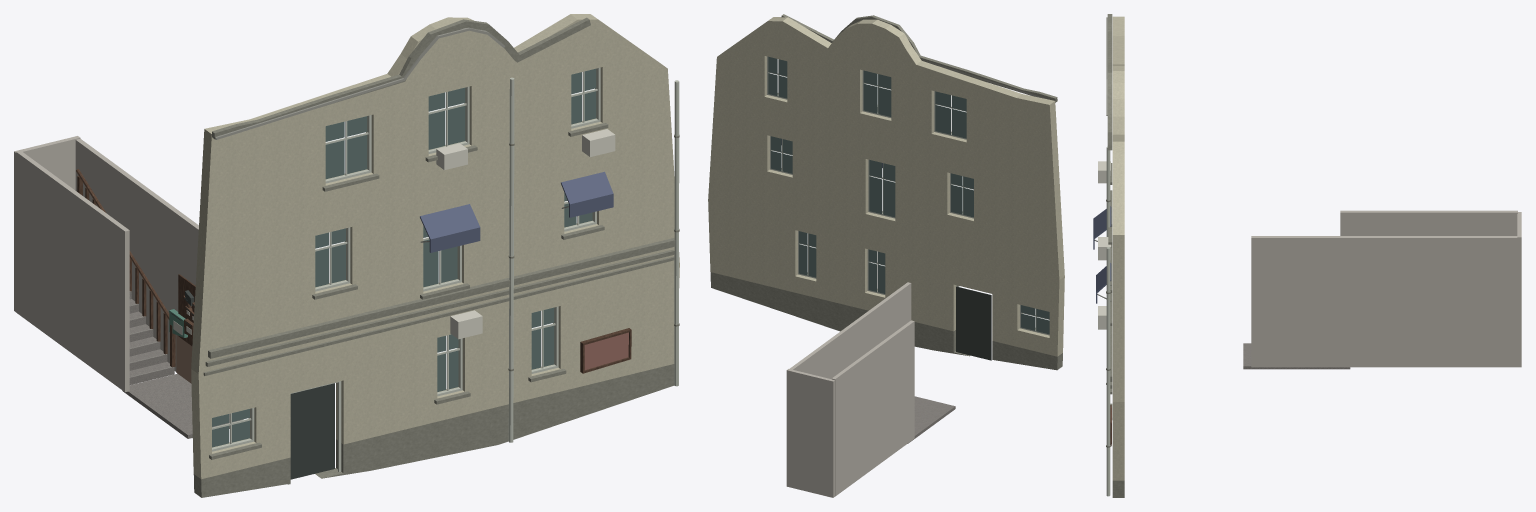
File: lod-source.glb
3 renders of one model, left to right at view 1: azimuth 30°, elevation 25°; view 2: azimuth 150°, elevation 25°; view 3: azimuth 270°, elevation 25°, orthographic. The views are drawn at different scales.
Parts seen in each view (by area): view 1: 愚园路1112弄20号北栋巷面与室内石阶; view 2: 愚园路1112弄20号北栋巷面与室内石阶; view 3: 愚园路1112弄20号北栋巷面与室内石阶.
Boxes of the visible parts, left/top/right/bottom form: 愚园路1112弄20号北栋巷面与室内石阶: left=14, top=14, right=679, bottom=497; 愚园路1112弄20号北栋巷面与室内石阶: left=708, top=14, right=1064, bottom=497; 愚园路1112弄20号北栋巷面与室内石阶: left=1093, top=14, right=1521, bottom=497.
Bounding box in the file's own units: 11.43 × 9.86 × 10.81.
Materials: 15 (4 with a texture image).
